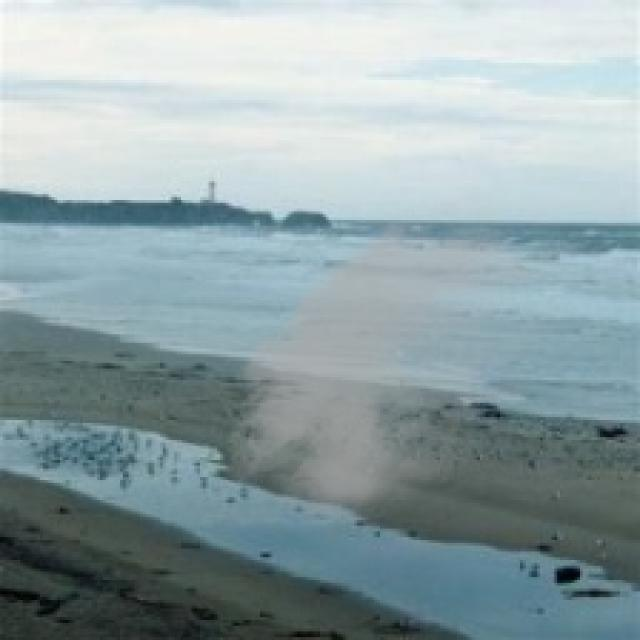smoke: (214, 180, 583, 546)
